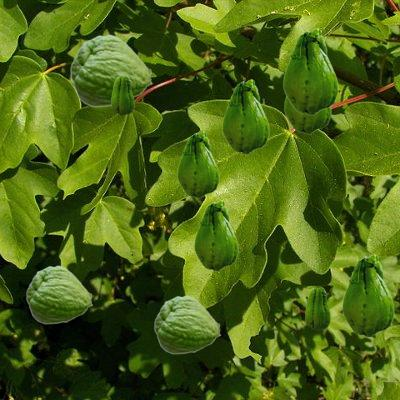sayote: (70, 34, 152, 106), (283, 28, 337, 114), (342, 254, 393, 336), (154, 295, 220, 353), (26, 265, 92, 323), (222, 79, 268, 153), (194, 200, 237, 270), (177, 131, 218, 197), (284, 96, 330, 133), (305, 287, 329, 329), (111, 76, 133, 114)
